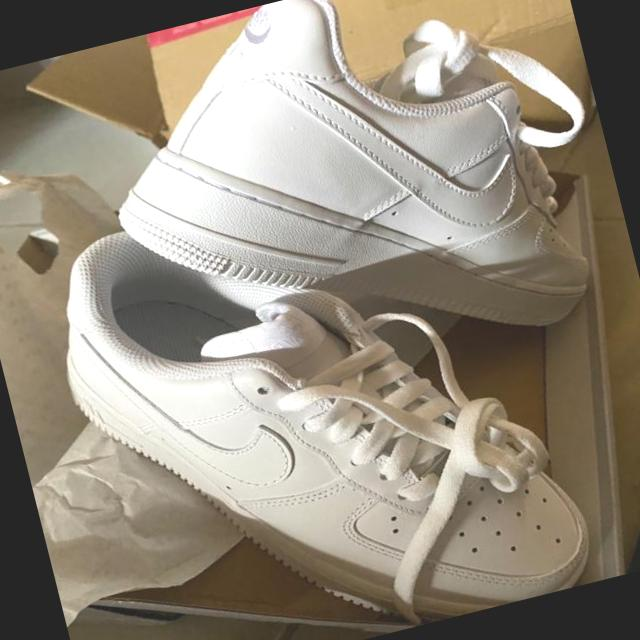nike_original_airforce: (30, 133, 600, 640), (78, 0, 632, 421)
